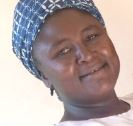without_facemask: (48, 60, 126, 94)
